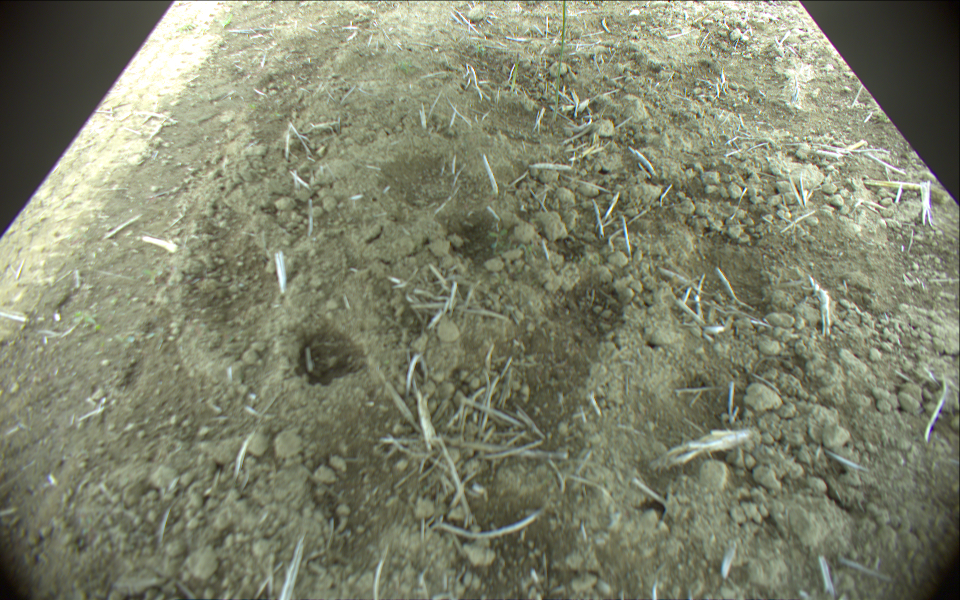aspa: (554, 1, 568, 109), (509, 50, 520, 91)
